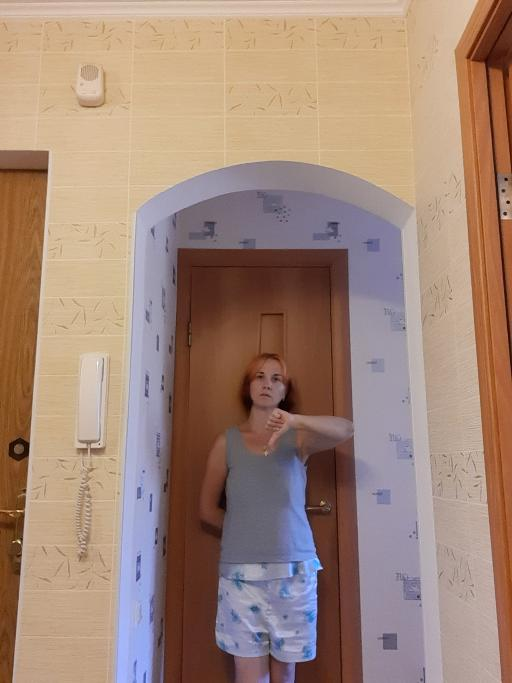dislike: (263, 406, 292, 451)
